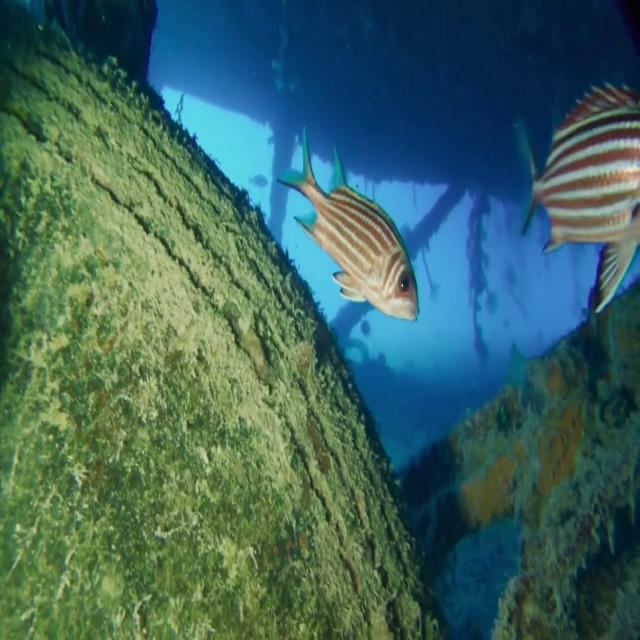Asker Baligi: (516, 77, 639, 315), (276, 122, 420, 324)
